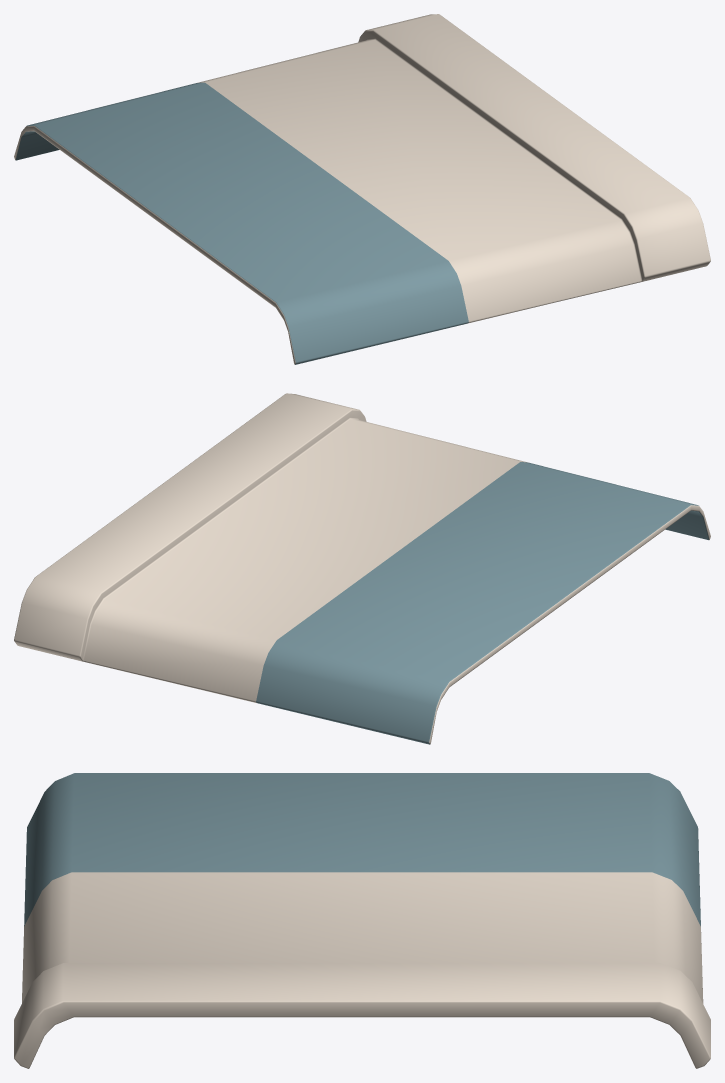
The model's file is Duvet.fbx.
3 views of the same model, one above another, from view 1: azimuth 30°, elevation 25°; view 2: azimuth 150°, elevation 25°; view 3: azimuth 270°, elevation 25° (orthographic). The views are drawn at different scales.
Parts seen in each view (by area): view 1: Duvet; view 2: Duvet; view 3: Duvet.
Part boxes in pixels (x1=…): Duvet: x1=14, y1=14, x2=710, y2=364; Duvet: x1=14, y1=393, x2=710, y2=744; Duvet: x1=14, y1=773, x2=710, y2=1068.
Bounding box in the file's own units: 273 × 36.67 × 338.
